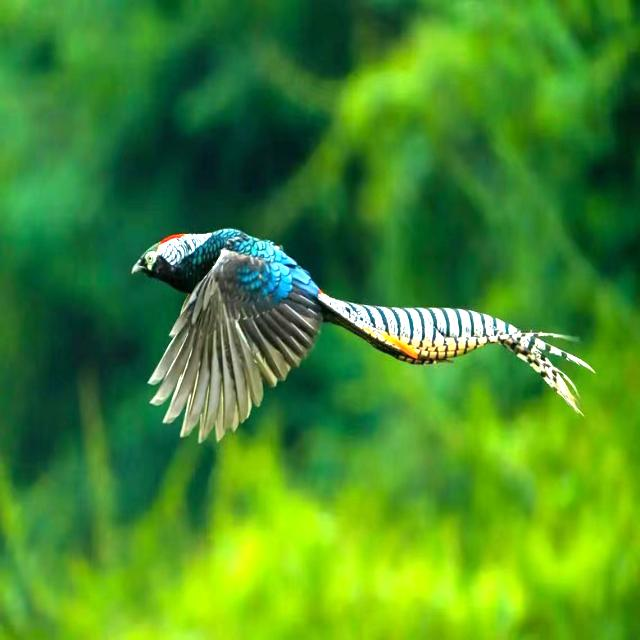Chrysolophus amherstiae: (328, 298, 594, 414)
